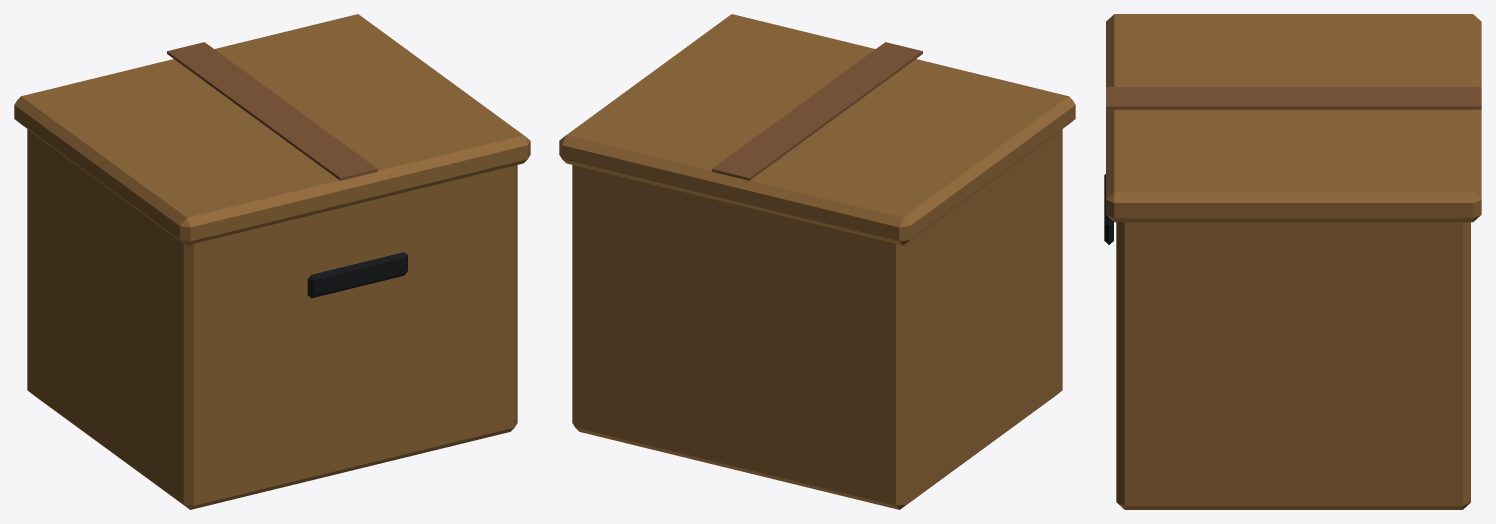
Rendered from CardboardBox.fbx.
3 renders of one model, left to right at view 1: azimuth 30°, elevation 25°; view 2: azimuth 150°, elevation 25°; view 3: azimuth 270°, elevation 25°, orthographic. The views are drawn at different scales.
Parts seen in each view (by area): view 1: CardboardBox; view 2: CardboardBox; view 3: CardboardBox.
Part boxes in pixels (bbox=[...]): CardboardBox: bbox=[14, 14, 530, 509]; CardboardBox: bbox=[559, 14, 1075, 509]; CardboardBox: bbox=[1104, 14, 1481, 509].
Size of the model in its own units: 42 by 34.75 by 36.15.
1 material, 1 textured.
